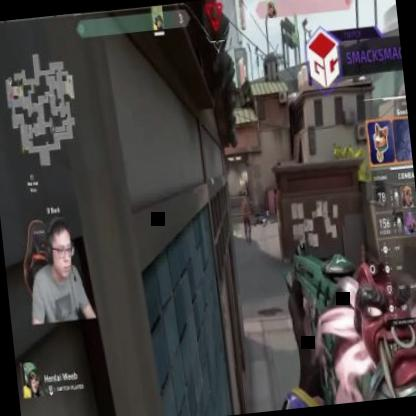enemy: (238, 193, 255, 243)
enemy_head: (242, 195, 246, 202)
